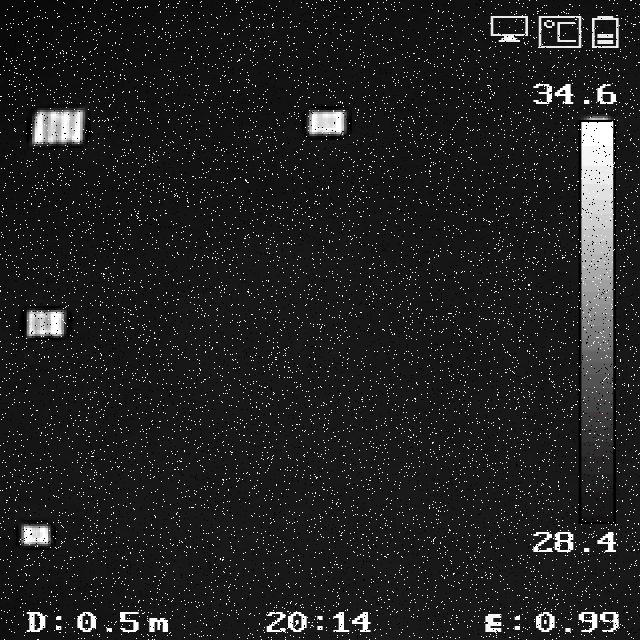Distinguishable 4-bar target: (28, 109, 87, 147)
Indistinguishable 4-bar target: (312, 111, 347, 135), (19, 525, 53, 547)
threshold 4-bar target: (27, 308, 68, 335)
